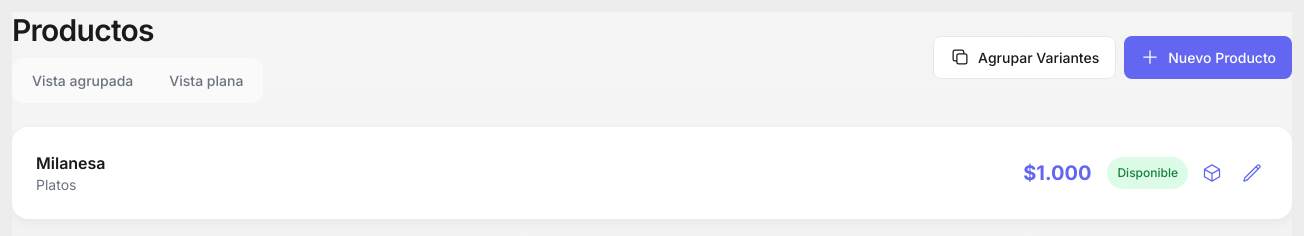
Test case: Productos page › cambia a vista plana
Expected: the heading "Milanesa" is shown, [36,150,106,174]
Click the button "Vista plana": (206, 80) [153,62,259,98]
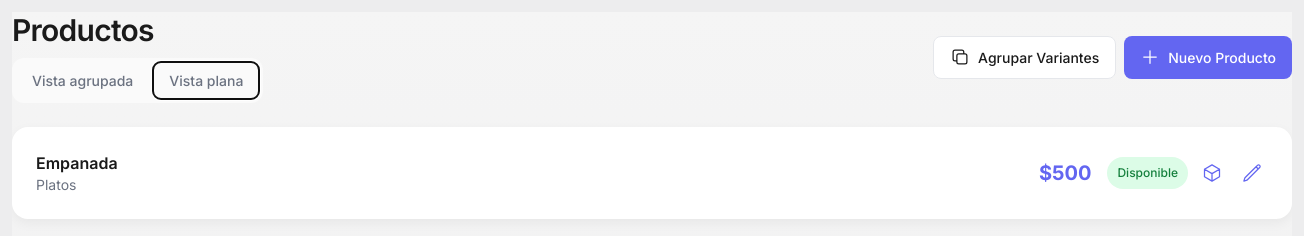
Expected: the heading "Empanada" is shown, [36,150,118,174]
